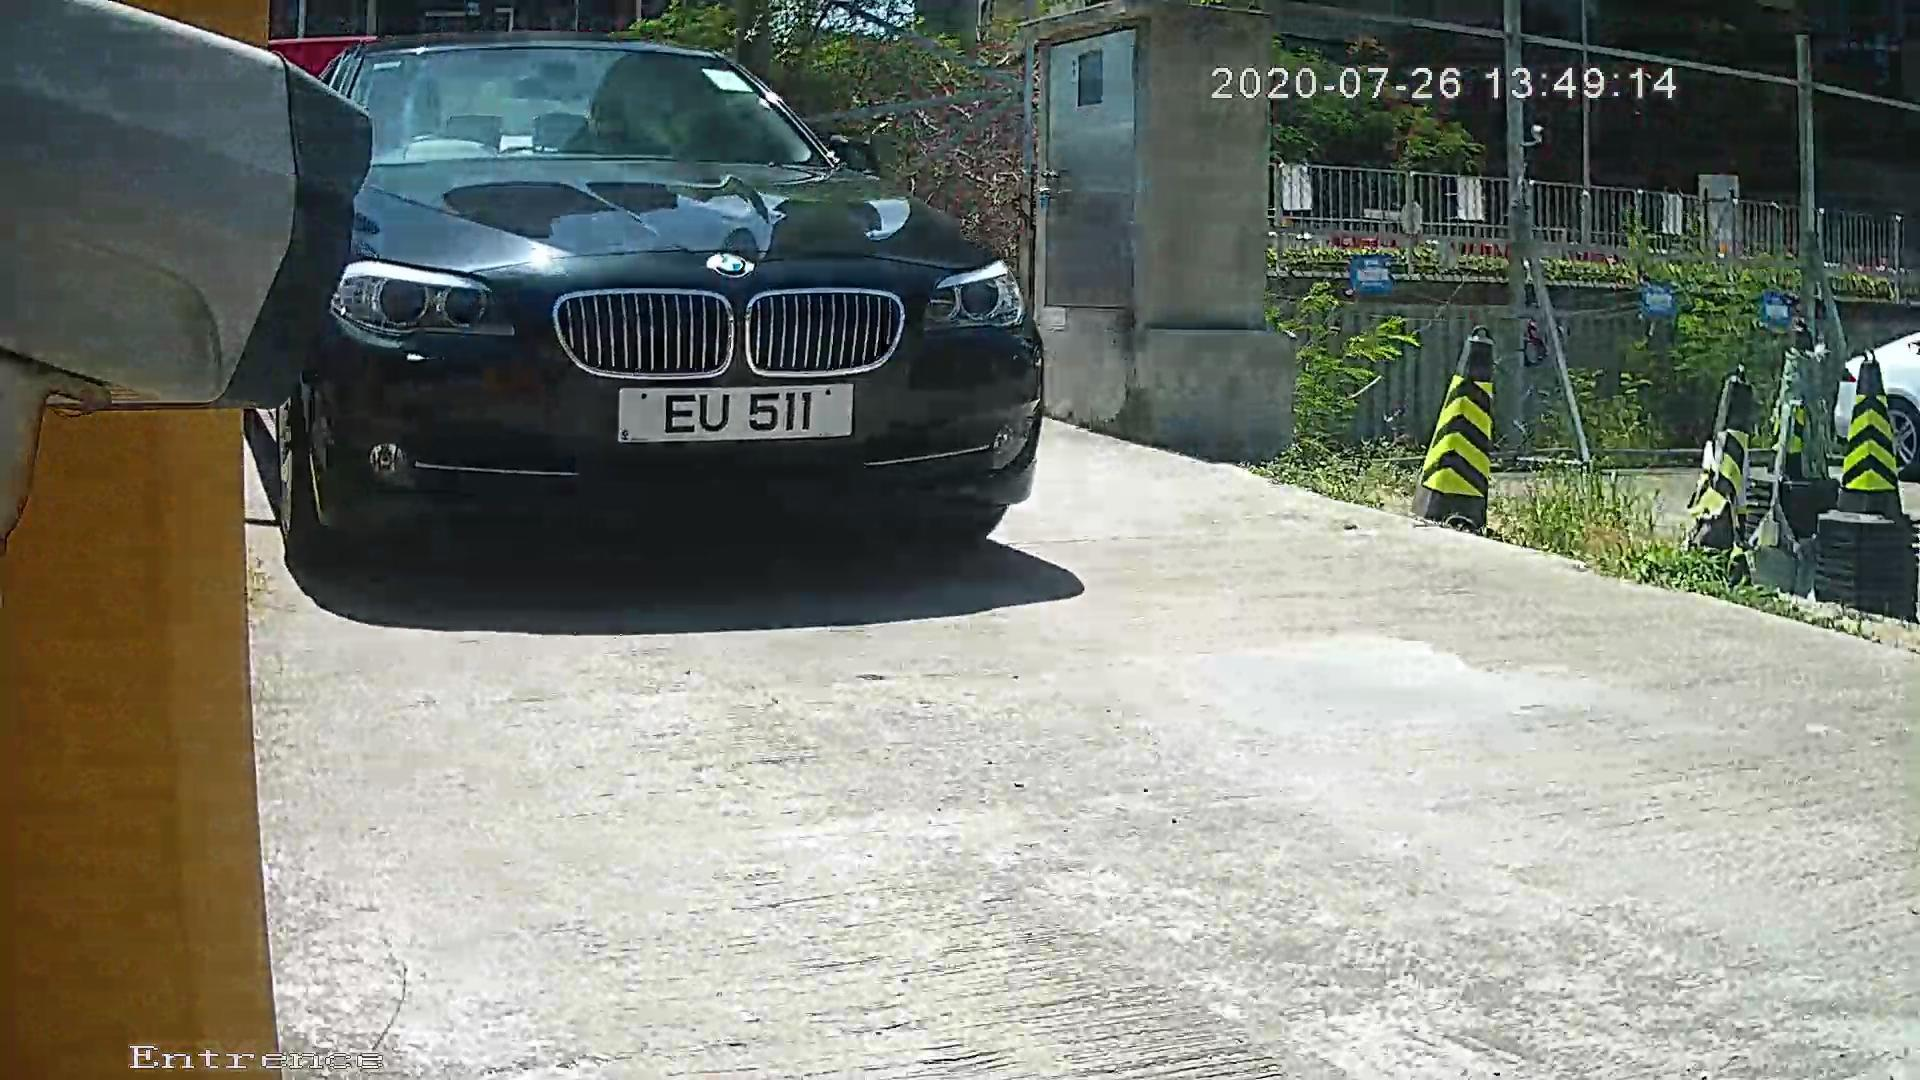privatecar: (215, 11, 1201, 637)
